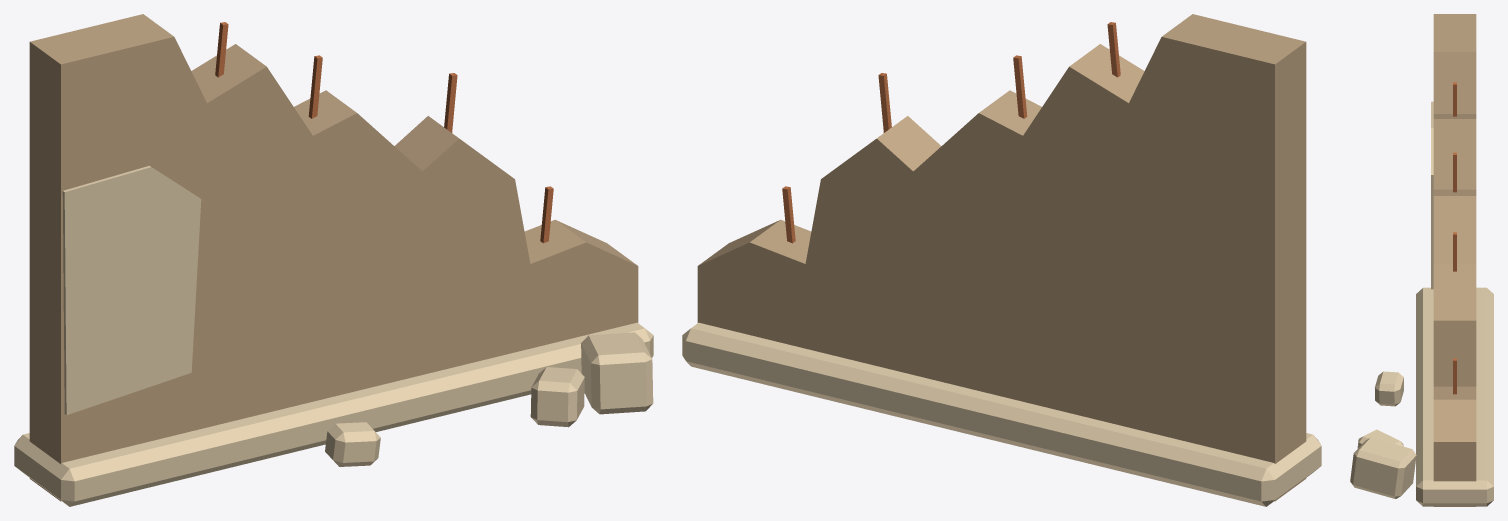
Rendered from SM_BrokenWall.fbx.
3 renders of one model, left to right at view 1: azimuth 30°, elevation 25°; view 2: azimuth 150°, elevation 25°; view 3: azimuth 270°, elevation 25°, orthographic. The views are drawn at different scales.
Visible parts, largest first — view 1: SM_BrokenWall; view 2: SM_BrokenWall; view 3: SM_BrokenWall.
Boxes of the visible parts, x1=… form: SM_BrokenWall: x1=14, y1=14, x2=653, y2=506; SM_BrokenWall: x1=682, y1=14, x2=1321, y2=506; SM_BrokenWall: x1=1350, y1=14, x2=1493, y2=506.
Bounding box in the file's own units: 3.08 × 0.9432 × 2.19.
